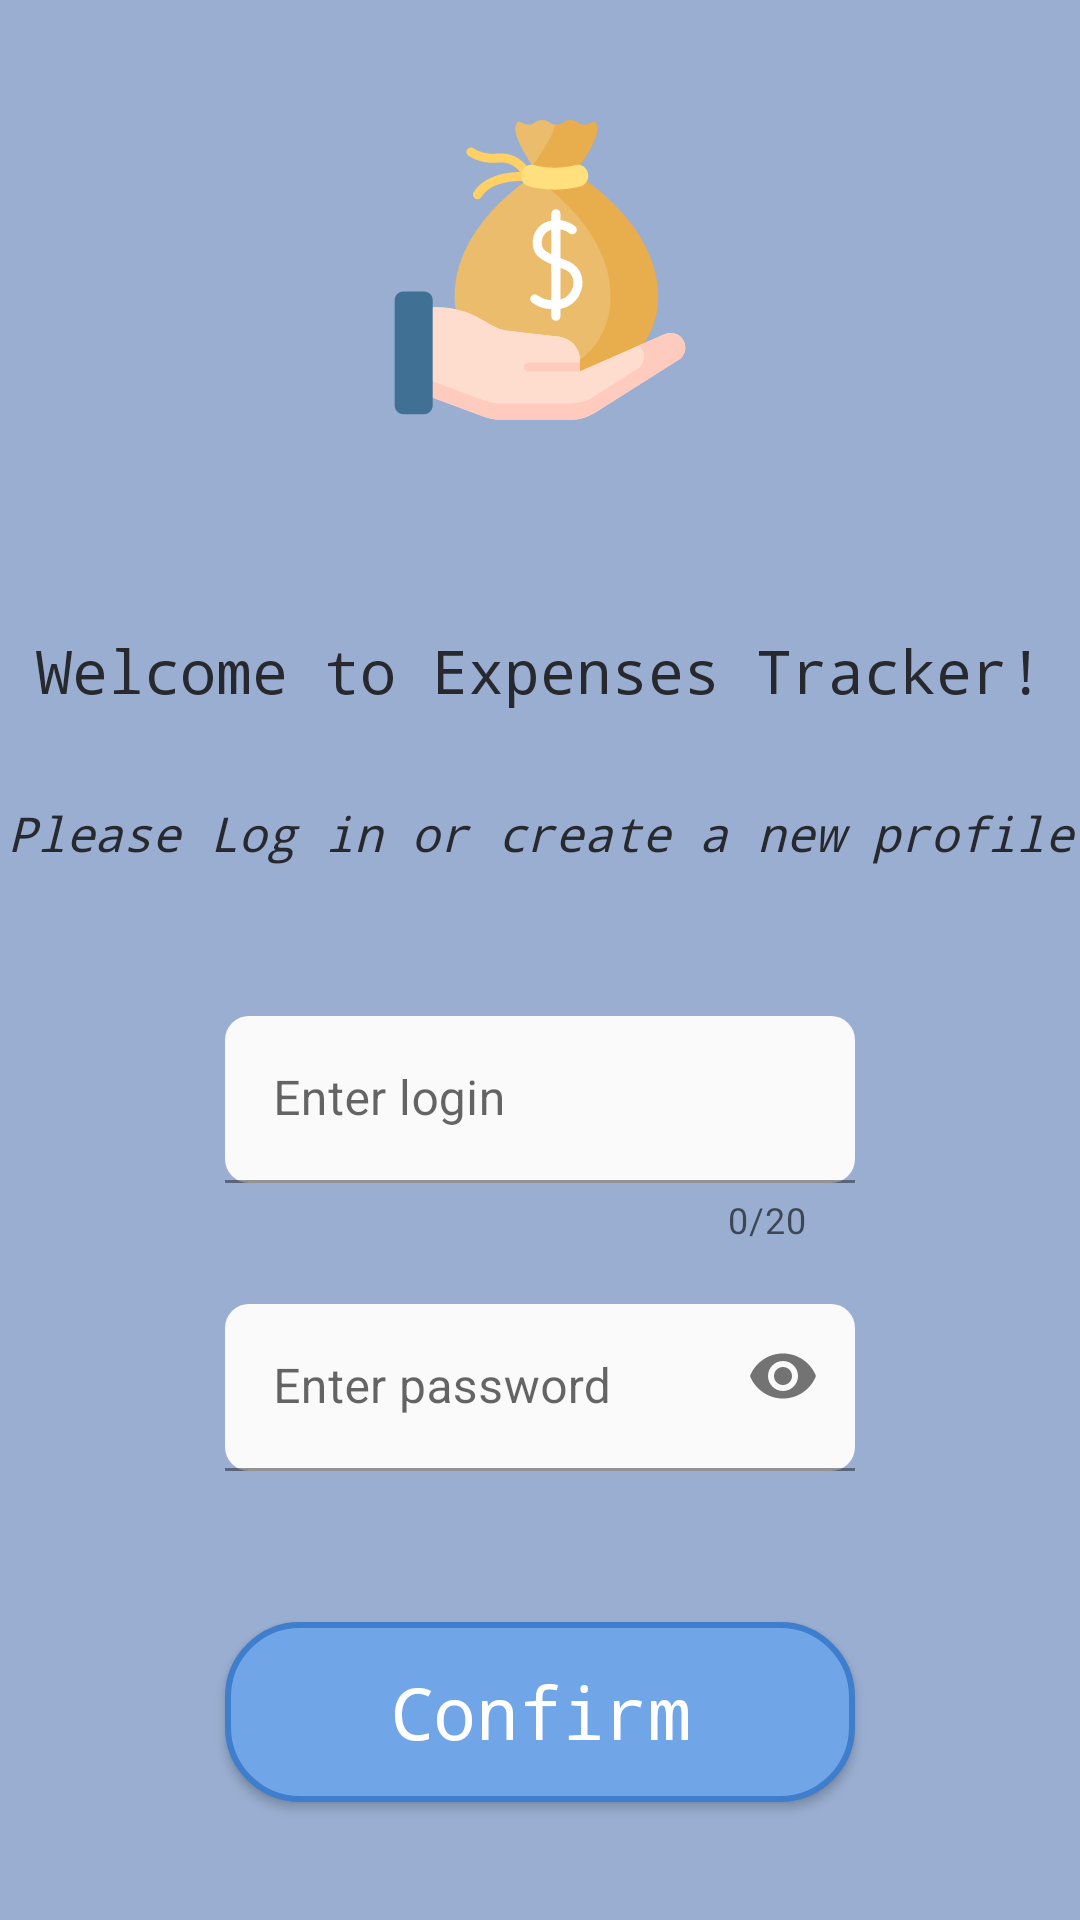

Icon bounding boxes for this 1080 x 1920 phone screenshot, format (x1, y1, x2, y2):
salary: (394, 120, 686, 420)
